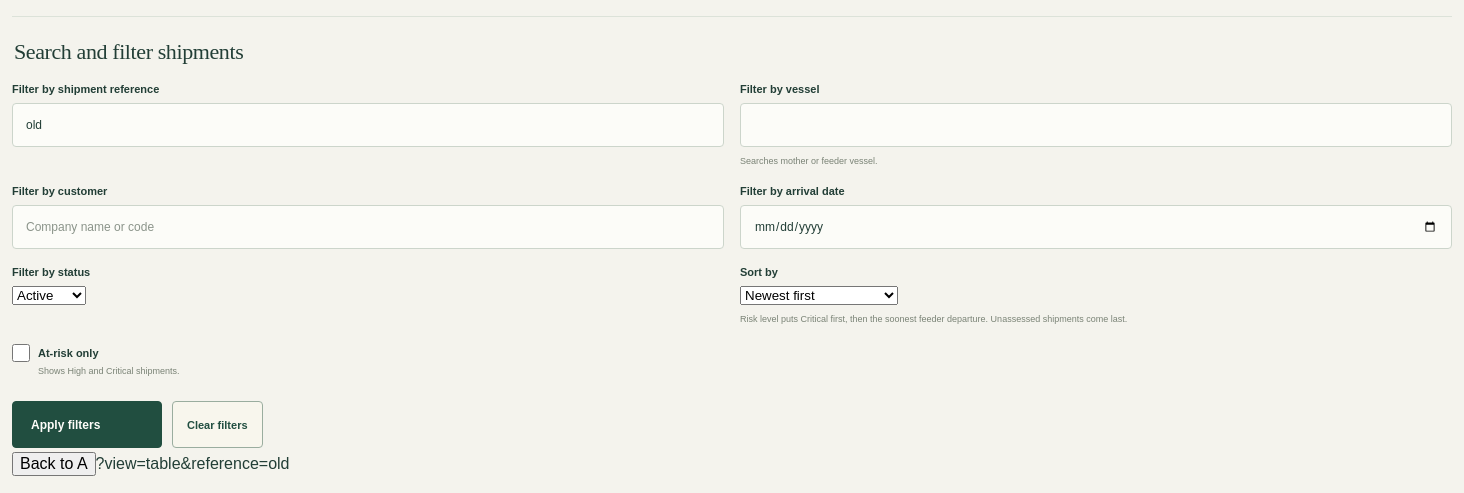
Test: ShipmentFilterControls › applies normalized supported values together while preserving unrelated parameters
Replace the text in the field labelled "Filter by shipment reference" with " HBL-2026 " at [368, 125], box [12,103,724,147]
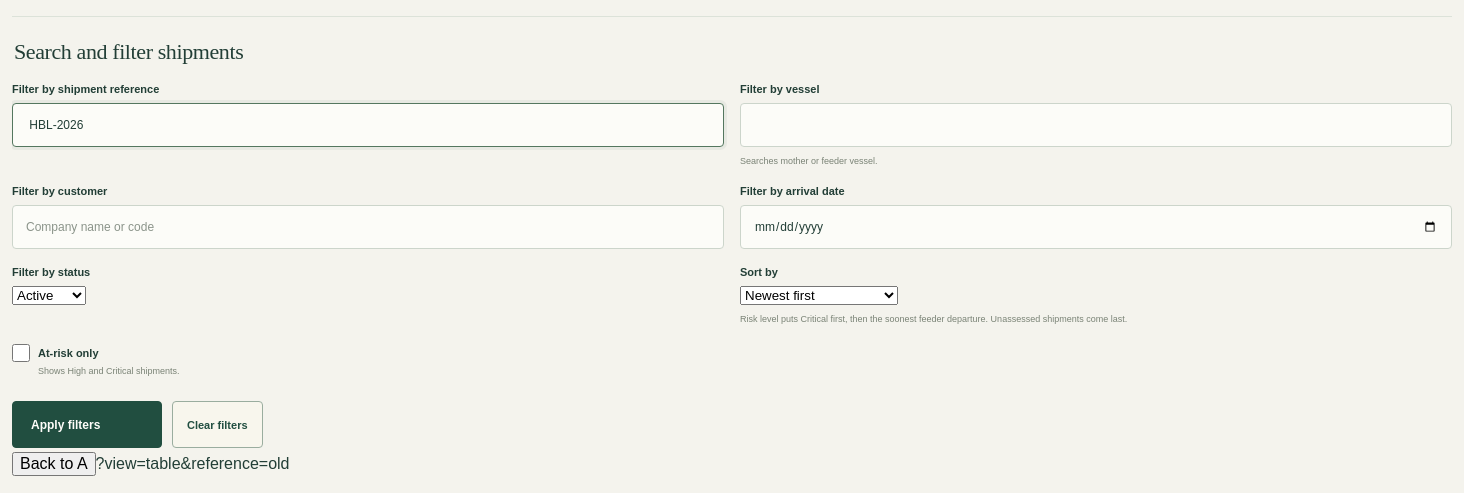
Type " Pacific " into the field labelled "Filter by vessel" at [1096, 125], box [740,103,1452,147]
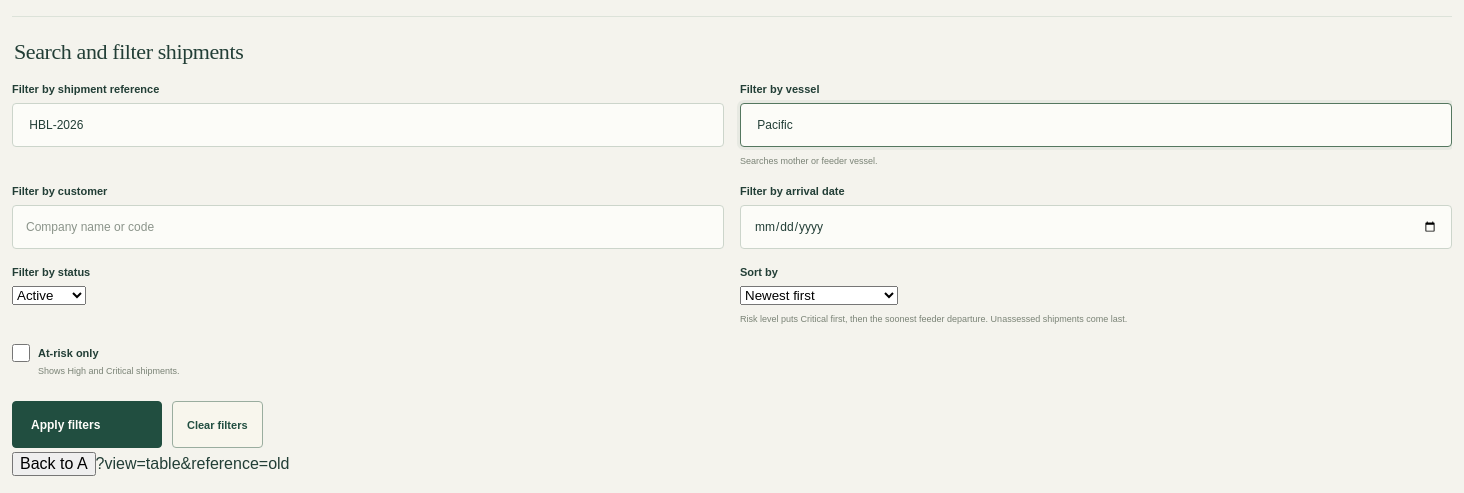
Type " ACME " into the field labelled "Filter by customer" at [368, 227], box [12,205,724,249]
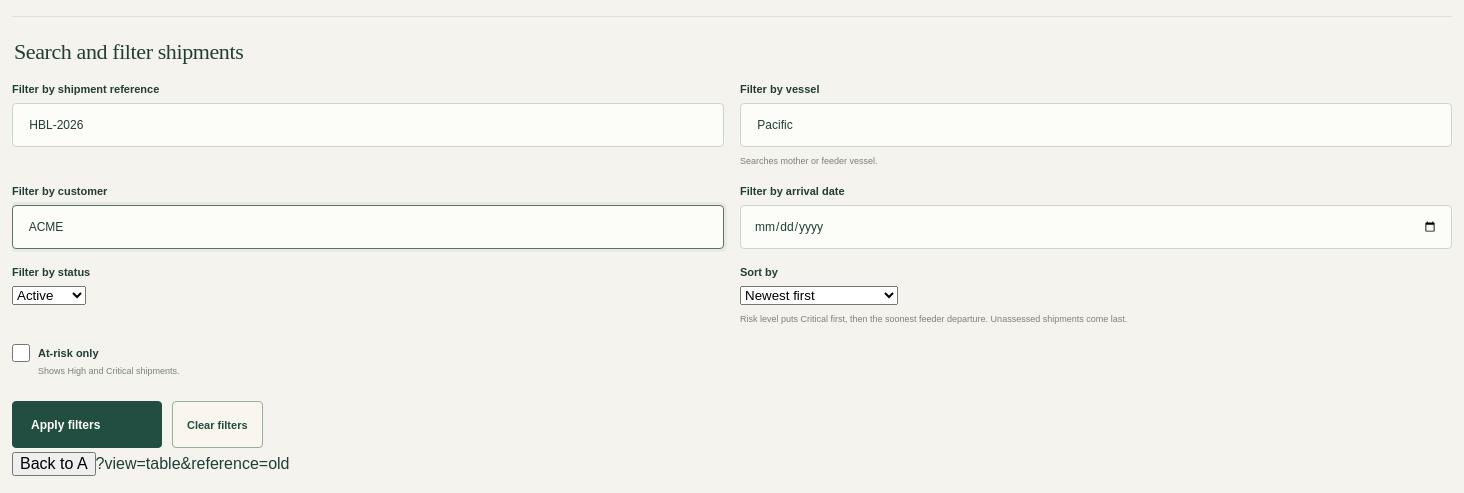
Type "2026-10-12" into the date field labelled "Filter by arrival date" at [1096, 227], box [740,205,1452,249]
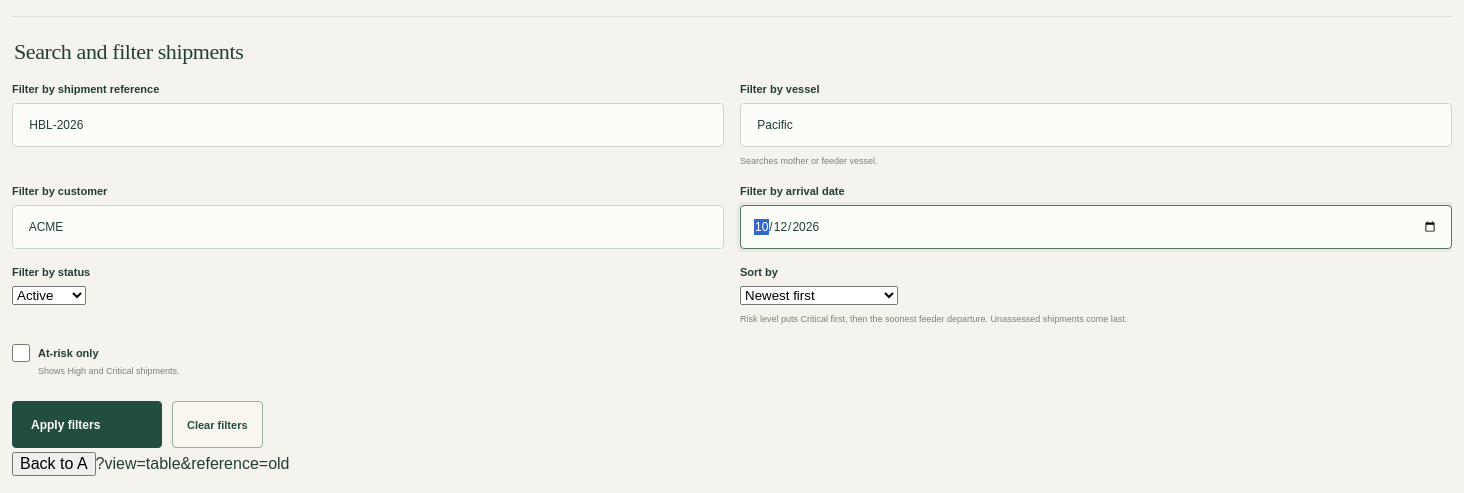
Select "Archived" in the dropdown labelled "Filter by status" at [49, 296], box [12,286,86,305]
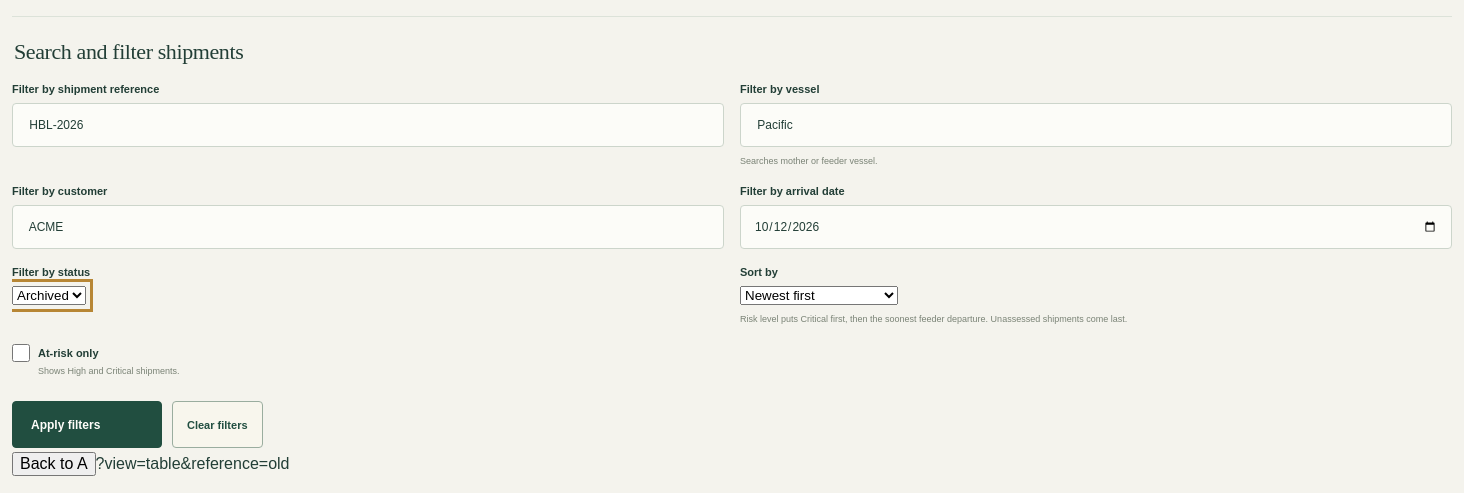
Click the button "Apply filters" at [87, 425], box [12,401,162,448]
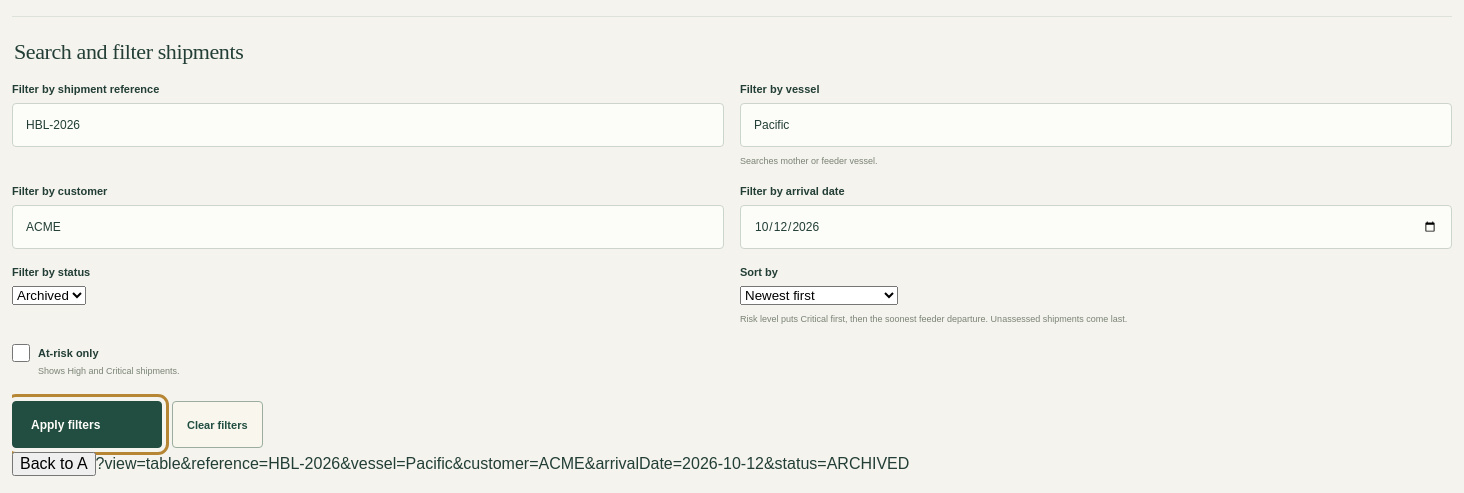
Expected: the text with test id "location" shows "?view=table&reference=HBL-2026&vessel=Pacific&customer=ACME&arrivalDate=2026-10-12&status=ARCHIVED", [96,455,909,472]
